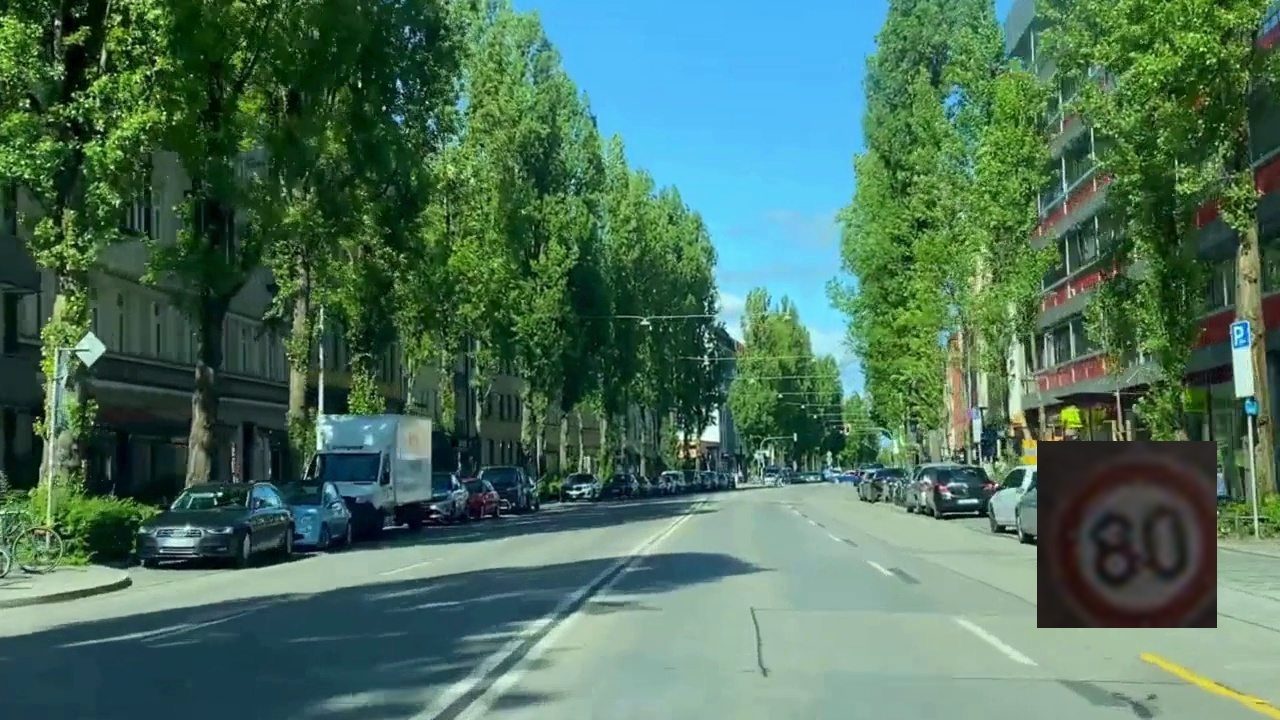Speed 80: (1037, 441, 1217, 628)
